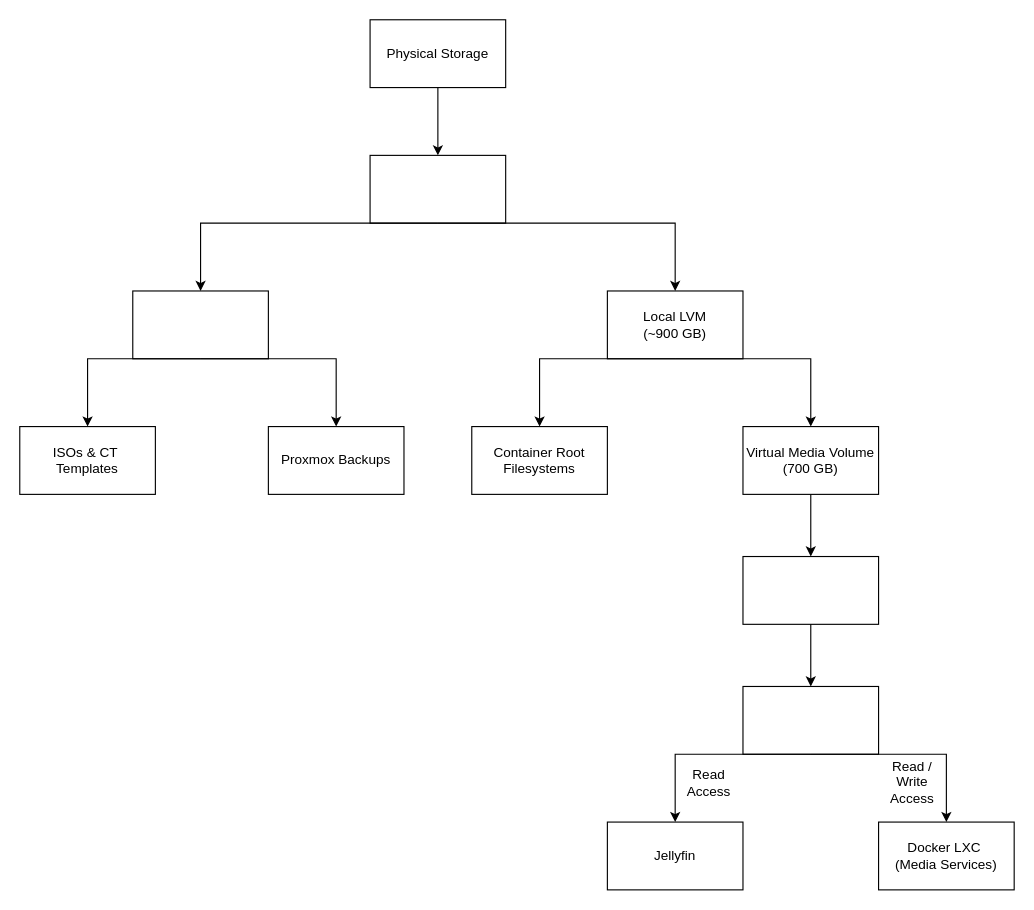
Some shapes in this 1034 by 910 pixel diagram are drawn without their labels. Each missing label, with the box of its shape:
Local Storage (100 GB): (132, 290, 268, 359)
Media Library: (742, 555, 879, 624)
Mount Points: (742, 685, 879, 754)
Proxmox Host: (369, 154, 506, 223)
